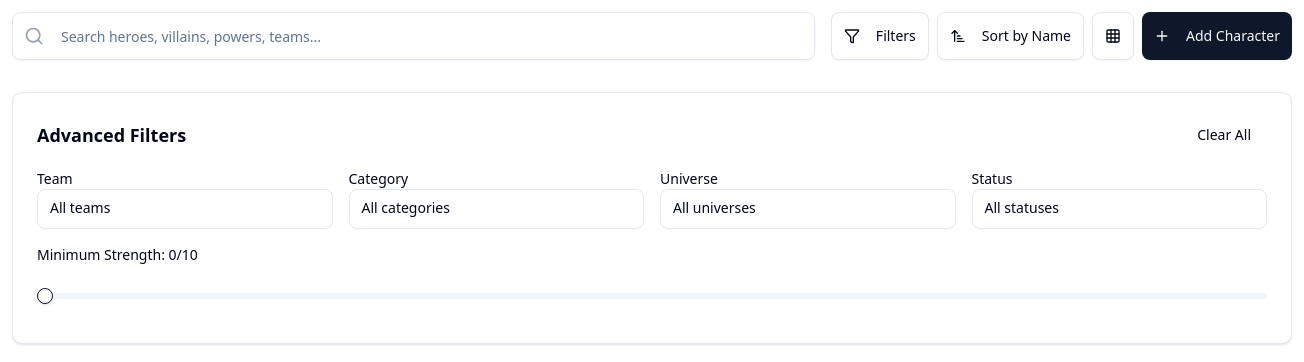
Test: Testing SearchControls.test › should close accordion when filter button is clicked
This screenshot has width=1304, height=362.
Expected: the heading "Advanced Filters" is shown, [37, 121, 186, 149]
Expected: the button "Clear All" is shown, [1181, 117, 1267, 153]
Closing advance filters
Step 1. Click the button "Filters" → point(880, 36), box [831, 12, 929, 60]
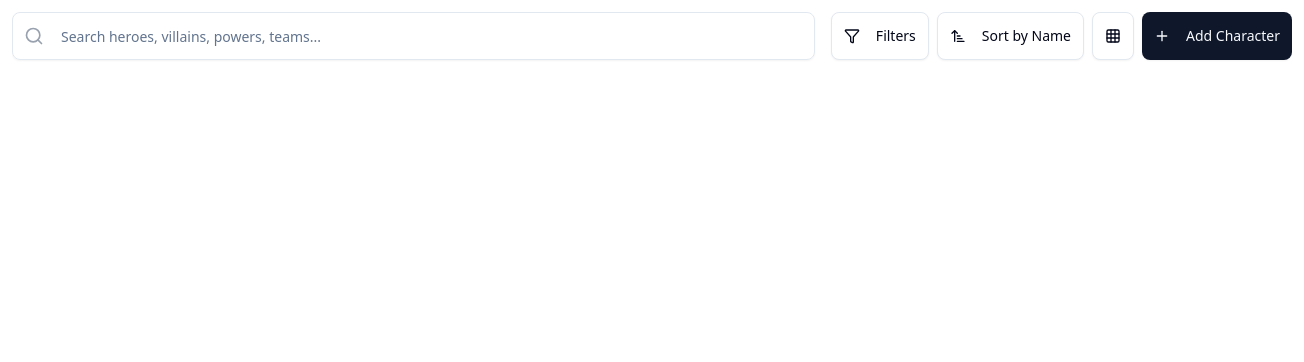
Expected: the button "Clear All" is gone
Expected: the heading "Advanced Filters" is gone
